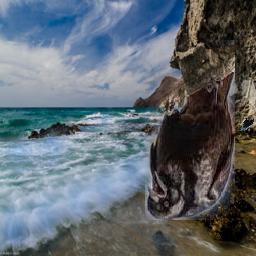Crow: (145, 40, 235, 220), (238, 118, 254, 133)
